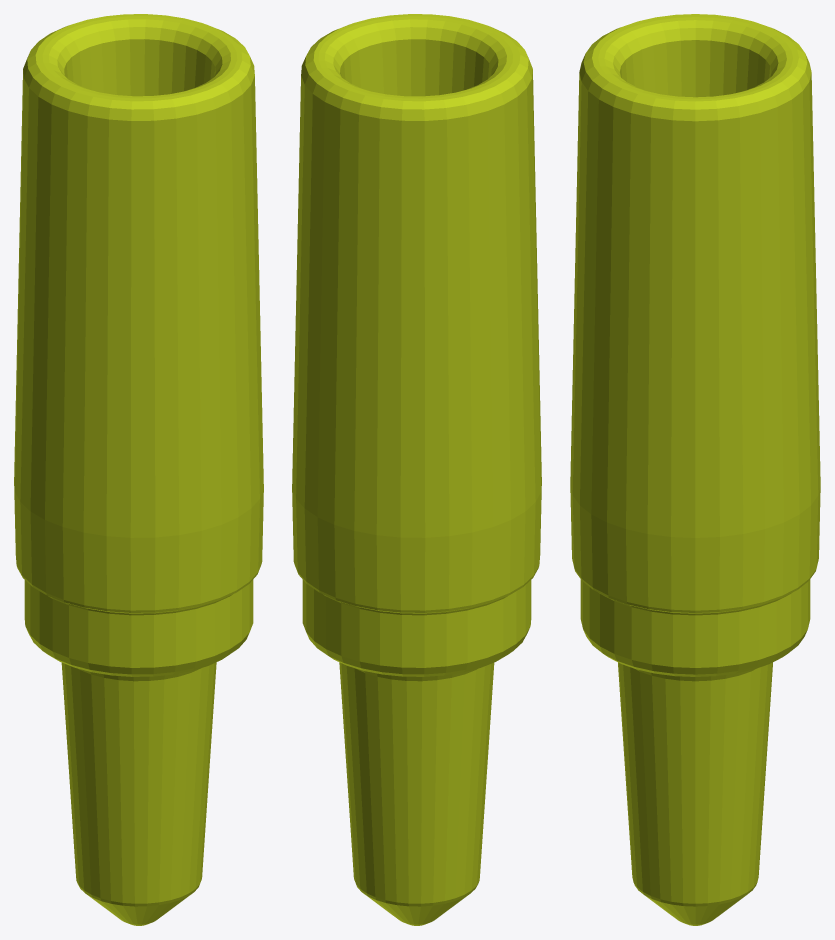
Rendered from Skryise Section.fbx.
The picture shows the model from 3 angles, left to right: view 1: azimuth 30°, elevation 25°; view 2: azimuth 150°, elevation 25°; view 3: azimuth 270°, elevation 25°; orthographic projection.
Parts seen in each view (by area): view 1: Skyrise Secton; view 2: Skyrise Secton; view 3: Skyrise Secton.
Boxes of the visible parts, bbox=[...] form: Skyrise Secton: bbox=[14, 14, 263, 925]; Skyrise Secton: bbox=[292, 14, 541, 925]; Skyrise Secton: bbox=[570, 14, 820, 925].
Size of the model in its own units: 7.61 by 28.97 by 7.61.
